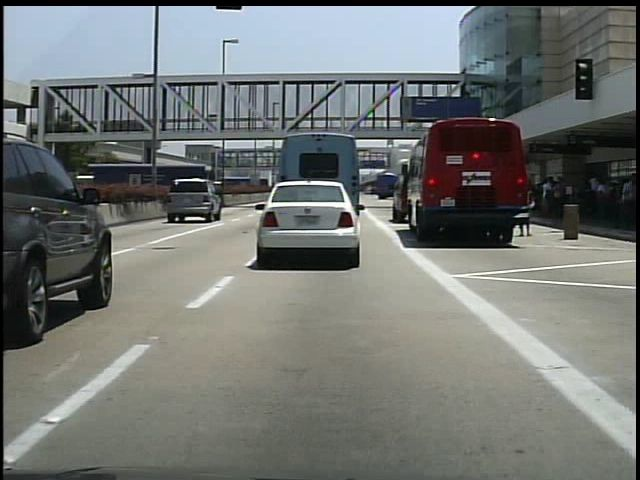person: (522, 188, 535, 238)
